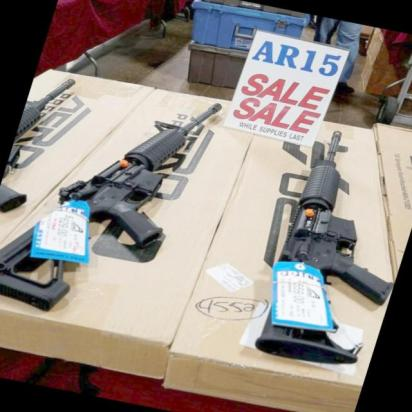Gun: (256, 129, 396, 364)
